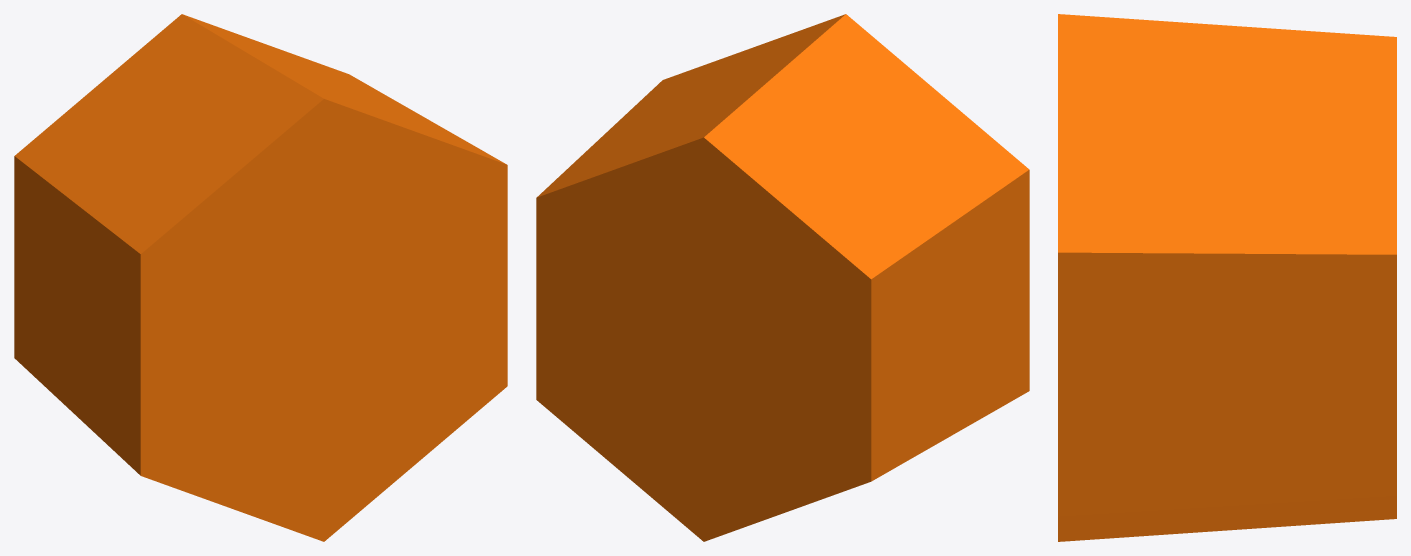
Rendered from MolassesLabel.obj.
3 views of the same model, side by side, from view 1: azimuth 30°, elevation 25°; view 2: azimuth 150°, elevation 25°; view 3: azimuth 270°, elevation 25° (orthographic). The views are drawn at different scales.
Visible parts, largest first — view 1: glass.003; view 2: glass.003; view 3: glass.003.
Part boxes in pixels (x1,y1,x2,y2): glass.003: [14, 14, 507, 541]; glass.003: [536, 14, 1029, 541]; glass.003: [1058, 14, 1396, 541].
Bounding box in the file's own units: 0.1197 × 0.1382 × 0.0804.
